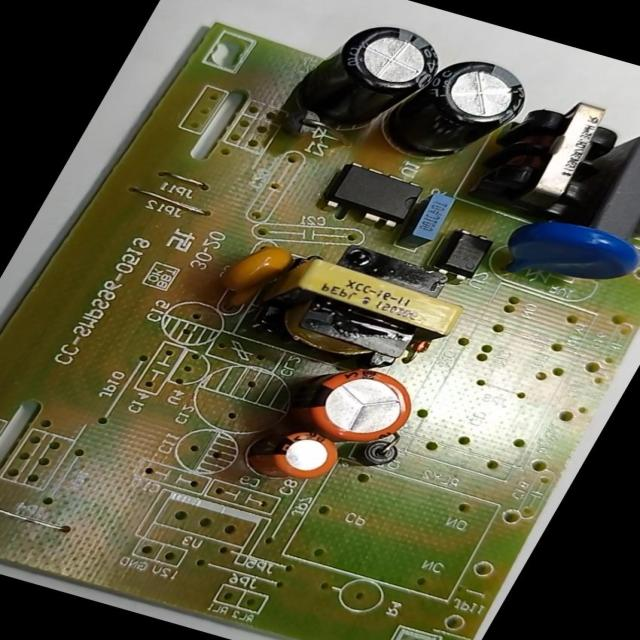Cap1: (277, 352, 429, 453)
Cap2: (238, 420, 348, 492)
Cap3: (392, 48, 543, 172)
Cap4: (286, 9, 455, 141)
MOSFET: (318, 158, 429, 232)
Mov: (491, 208, 639, 303)
Transformer: (253, 233, 483, 387), (479, 89, 637, 218)
